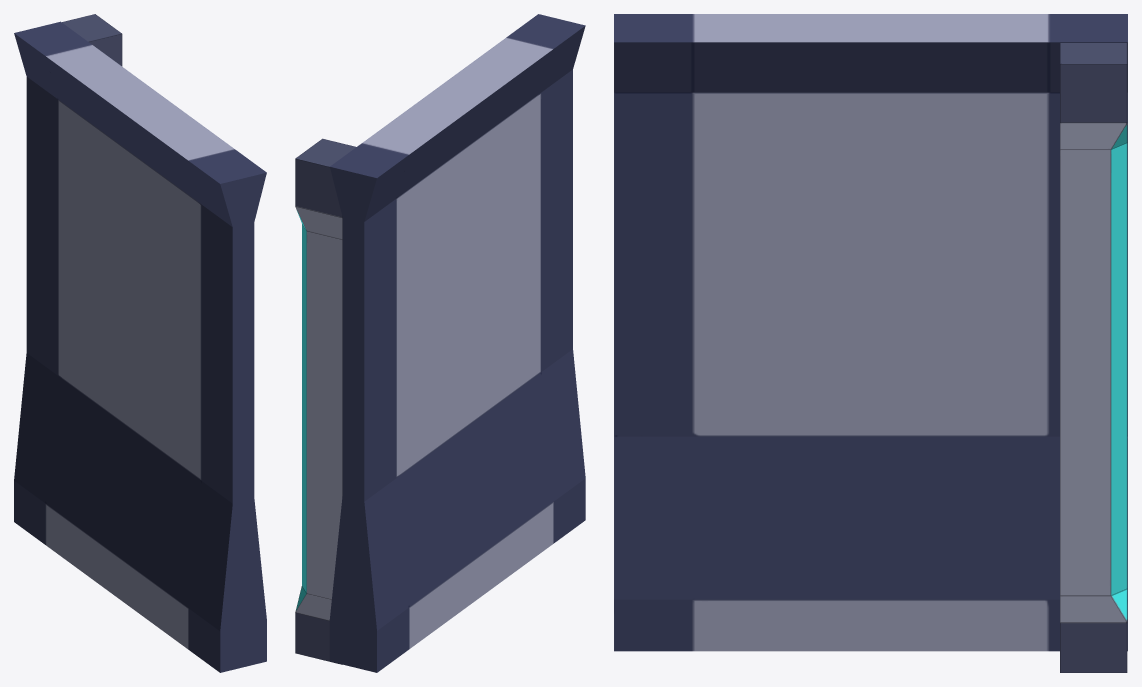
File: Wall_LeftsideDoor.fbx
3 renders of one model, left to right at view 1: azimuth 30°, elevation 25°; view 2: azimuth 150°, elevation 25°; view 3: azimuth 270°, elevation 25°, orthographic. The views are drawn at different scales.
Parts seen in each view (by area): view 1: Cube.006; view 2: Cube.006; view 3: Cube.006.
Part boxes in pixels (x1,y1,x2,y2): Cube.006: [14, 14, 266, 672]; Cube.006: [295, 14, 585, 672]; Cube.006: [614, 14, 1127, 672].
Size of the model in its own units: 52.06 by 300 by 229.
